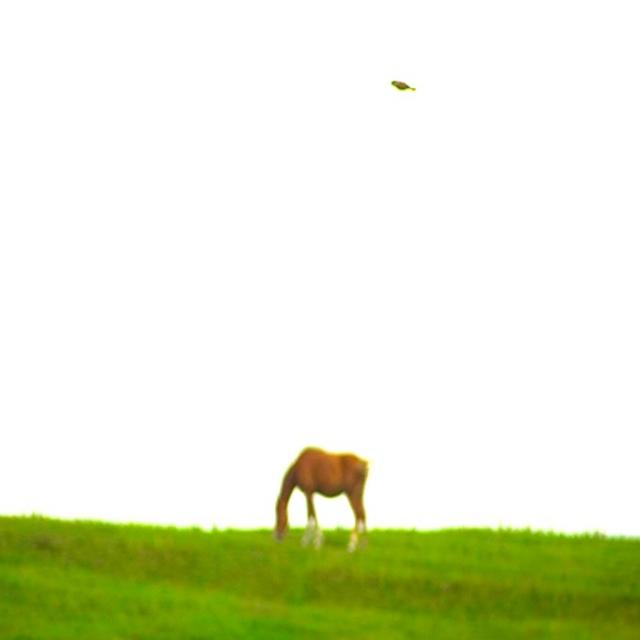Horse: (271, 443, 368, 553)
